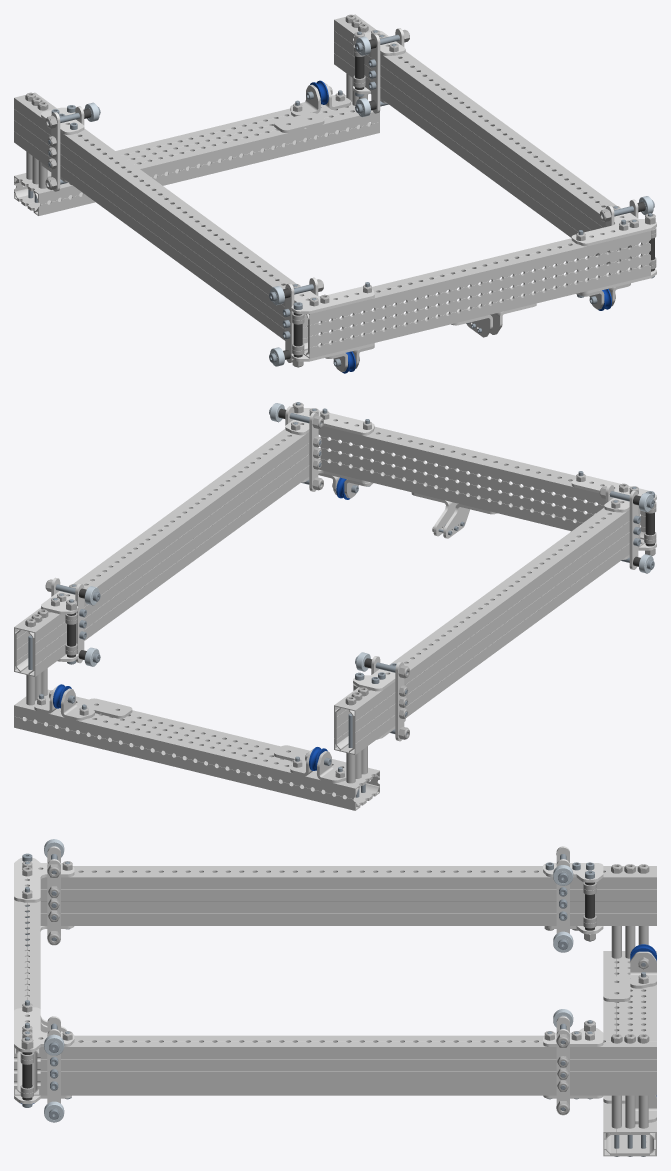
The picture shows the model from 3 angles, top to bottom: view 1: azimuth 30°, elevation 25°; view 2: azimuth 150°, elevation 25°; view 3: azimuth 270°, elevation 25°; orthographic projection. The views are drawn at different scales.
Parts seen in each view (by area): view 1: Stage2 Post (×2), MAXTube, 1x1x47" (×2), Slider Corner Plate (×2), Cord Stopper 2x1, Guide Plate; view 2: Stage2 Post (×2), MAXTube, 1x1x47" (×2), Slider Corner Plate (×2), Cord Stopper 2x1; view 3: Stage2 Post (×2), MAXTube, 1x1x47" (×2), Guide Plate (×4), Slider Corner Plate (×2), Slider Inline Plate (×2), Pullet Bracket 1" - B, Cord Stopper 2x1.
Boxes of the visible parts, x1,y1,x2,y2 form: Stage2 Post (×2): (14,14,638,340); MAXTube, 1x1x47" (×2): (14,95,650,358); Slider Corner Plate (×2): (291,213,656,314); Cord Stopper 2x1: (274,112,324,132); Guide Plate: (371,34,380,113); Stage2 Post (×2): (14,429,638,754); MAXTube, 1x1x47" (×2): (14,426,645,810); Slider Corner Plate (×2): (285,408,656,512); Cord Stopper 2x1: (82,698,132,718); Stage2 Post (×2): (40,866,656,1095); MAXTube, 1x1x47" (×2): (14,899,656,1156); Guide Plate (×4): (47,859,569,1115); Slider Corner Plate (×2): (14,858,74,1052); Slider Inline Plate (×2): (543,863,603,1046); Pullet Bracket 1" - B: (630,951,656,988); Cord Stopper 2x1: (603,976,630,1001).
Bounding box in the file's own units: 0.4541 × 0.1382 × 0.6096.
